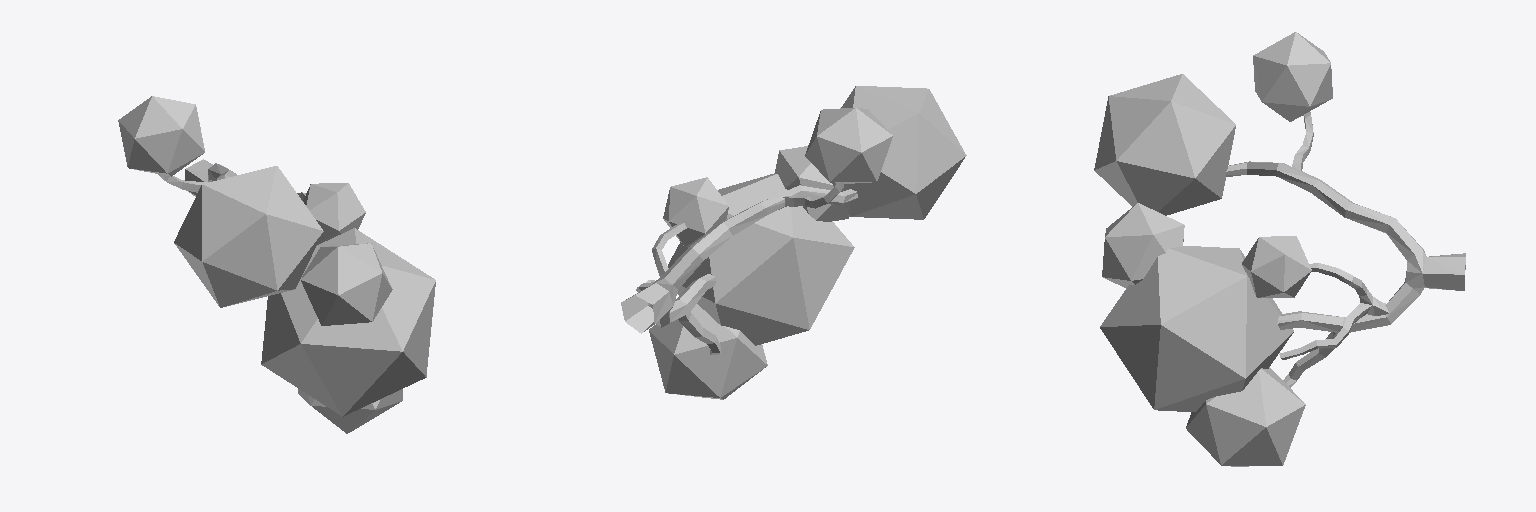
The model's file is Tree.obj.
The picture shows the model from 3 angles: view 1: azimuth 30°, elevation 25°; view 2: azimuth 150°, elevation 25°; view 3: azimuth 270°, elevation 25°; orthographic projection.
Visible parts, largest first — view 1: Tree_lp_11; view 2: Tree_lp_11; view 3: Tree_lp_11.
Part boxes in pixels (bbox=[...]): Tree_lp_11: bbox=[118, 96, 435, 433]; Tree_lp_11: bbox=[621, 86, 966, 399]; Tree_lp_11: bbox=[1094, 32, 1465, 466].
Bounding box in the file's own units: 2.08 × 2.8 × 2.65.